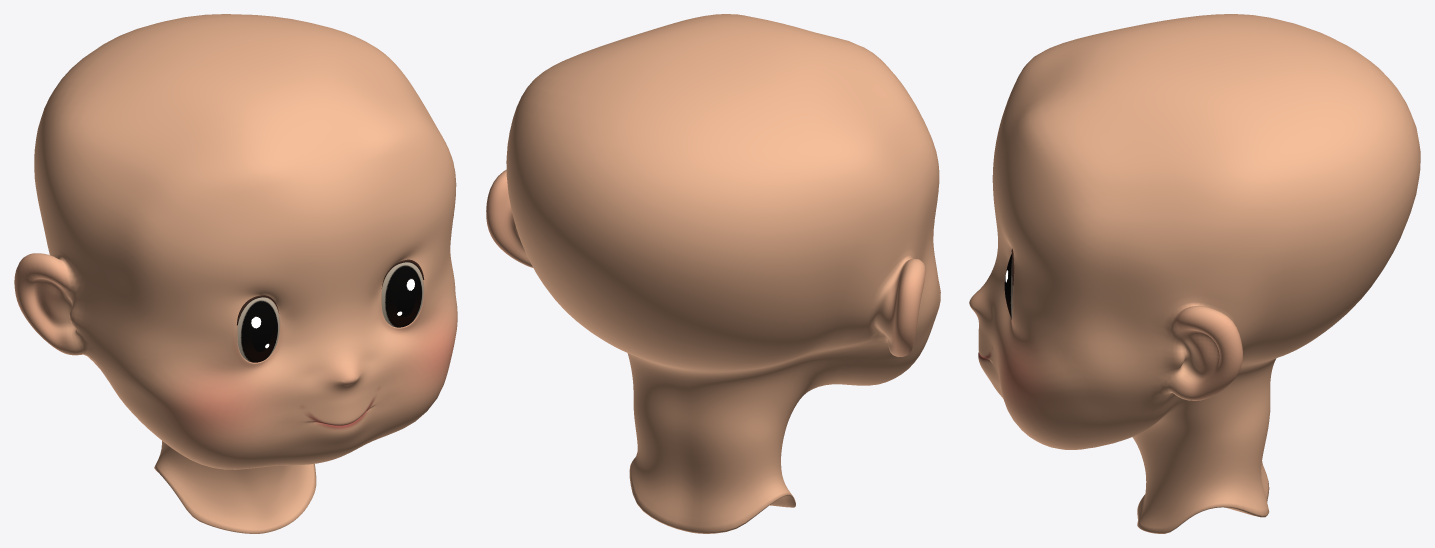
File: simm_inlay_carrier.glb
The picture shows the model from 3 angles, left to right: view 1: azimuth 30°, elevation 25°; view 2: azimuth 150°, elevation 25°; view 3: azimuth 270°, elevation 25°; orthographic projection. The views are drawn at different scales.
Visible parts, largest first — view 1: SCULPT_HEAD, SCULPT_EYE_L, SCULPT_EYE_R; view 2: SCULPT_HEAD; view 3: SCULPT_HEAD.
Boxes of the visible parts, box(x1,y1,x2,y2) form: SCULPT_HEAD: box(14, 14, 457, 533); SCULPT_EYE_L: box(381, 262, 423, 327); SCULPT_EYE_R: box(237, 297, 279, 362); SCULPT_HEAD: box(486, 14, 940, 533); SCULPT_HEAD: box(969, 14, 1420, 533).
Size of the model in its own units: 0.3598 by 0.377 by 0.3261.
Materials: 3 (2 with a texture image).
